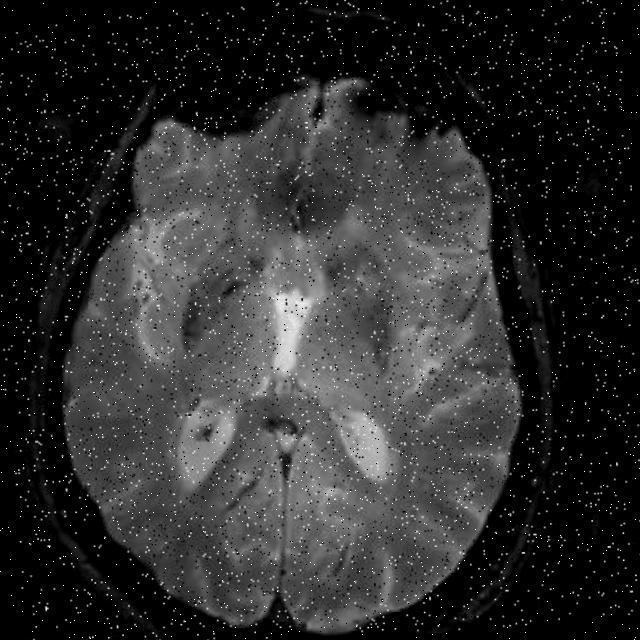LMCI: (216, 141, 355, 250)
